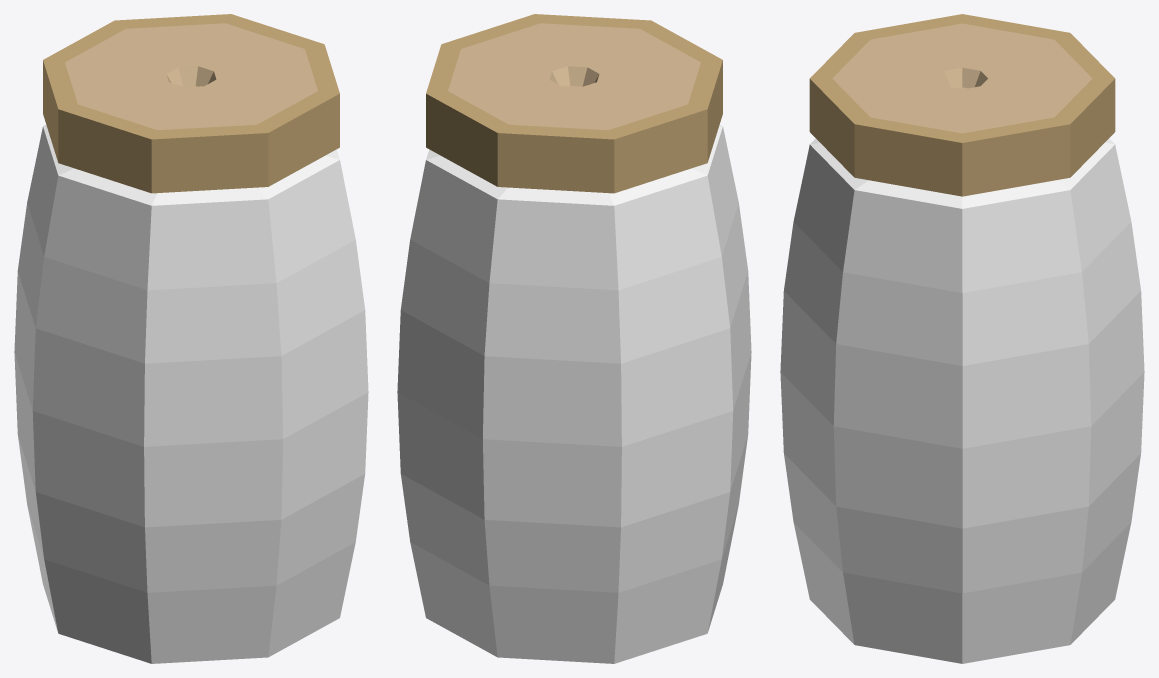
The model's file is FailedJar.glb.
3 views of the same model, side by side, from view 1: azimuth 30°, elevation 25°; view 2: azimuth 150°, elevation 25°; view 3: azimuth 270°, elevation 25° (orthographic).
Visible parts, largest first — view 1: bottle, cap; view 2: bottle, cap; view 3: bottle, cap.
Boxes of the visible parts, bbox=[...] form: bottle: bbox=[14, 125, 368, 663]; cap: bbox=[43, 14, 339, 193]; bottle: bbox=[397, 125, 751, 663]; cap: bbox=[426, 14, 722, 193]; bottle: bbox=[780, 138, 1144, 663]; cap: bbox=[809, 14, 1115, 196].
Size of the model in its own units: 0.9491 by 1.5 by 0.9491.
